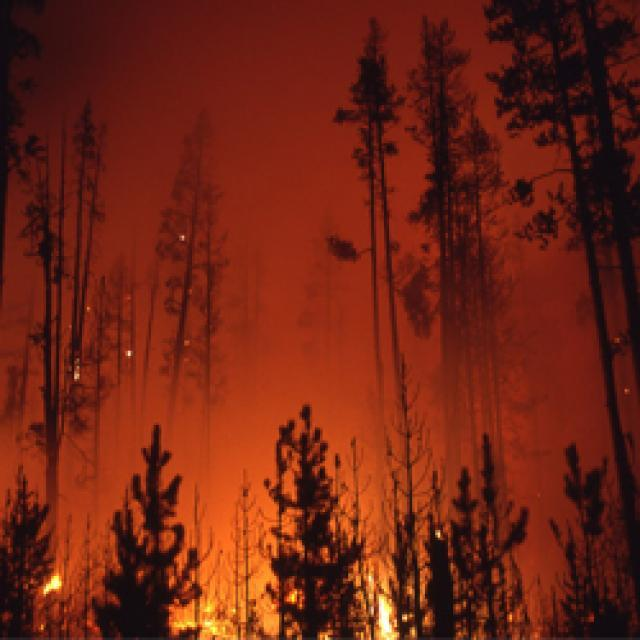Fire: (143, 540, 458, 640), (10, 540, 96, 636)
Smoke: (0, 73, 431, 511), (456, 200, 622, 520)
